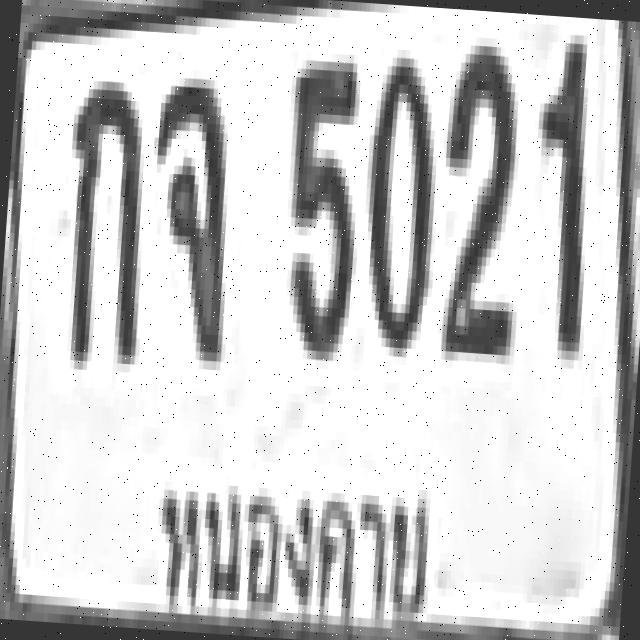0: (354, 47, 440, 349)
1: (522, 28, 592, 355)
10GorGai: (52, 70, 150, 364)
17ChorChan: (138, 67, 236, 361)
2: (432, 35, 527, 355)
5: (274, 50, 362, 352)
NongKhai: (144, 454, 440, 640)
